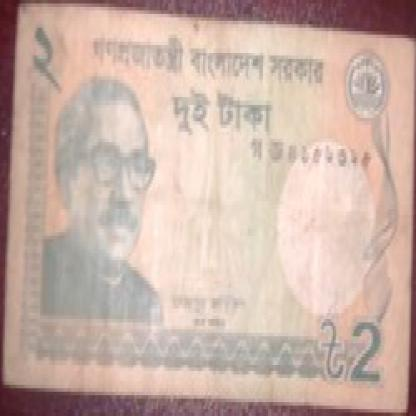two taka: (338, 309, 384, 409), (30, 17, 70, 90)
